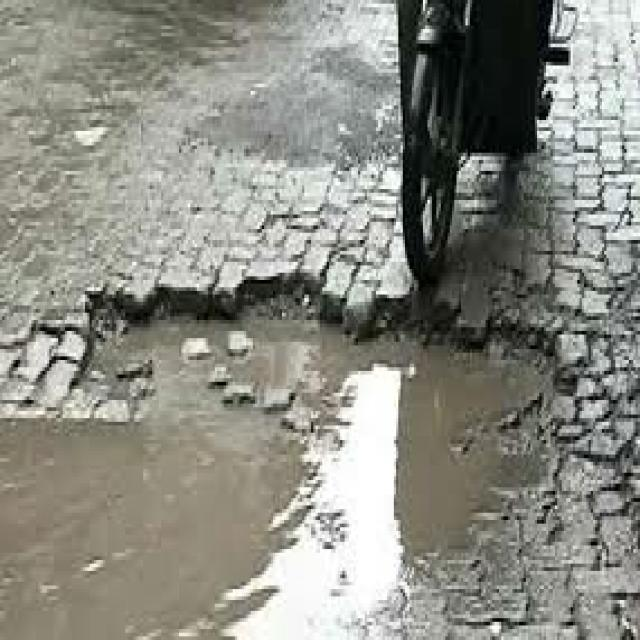Buraco: (0, 268, 580, 638)
